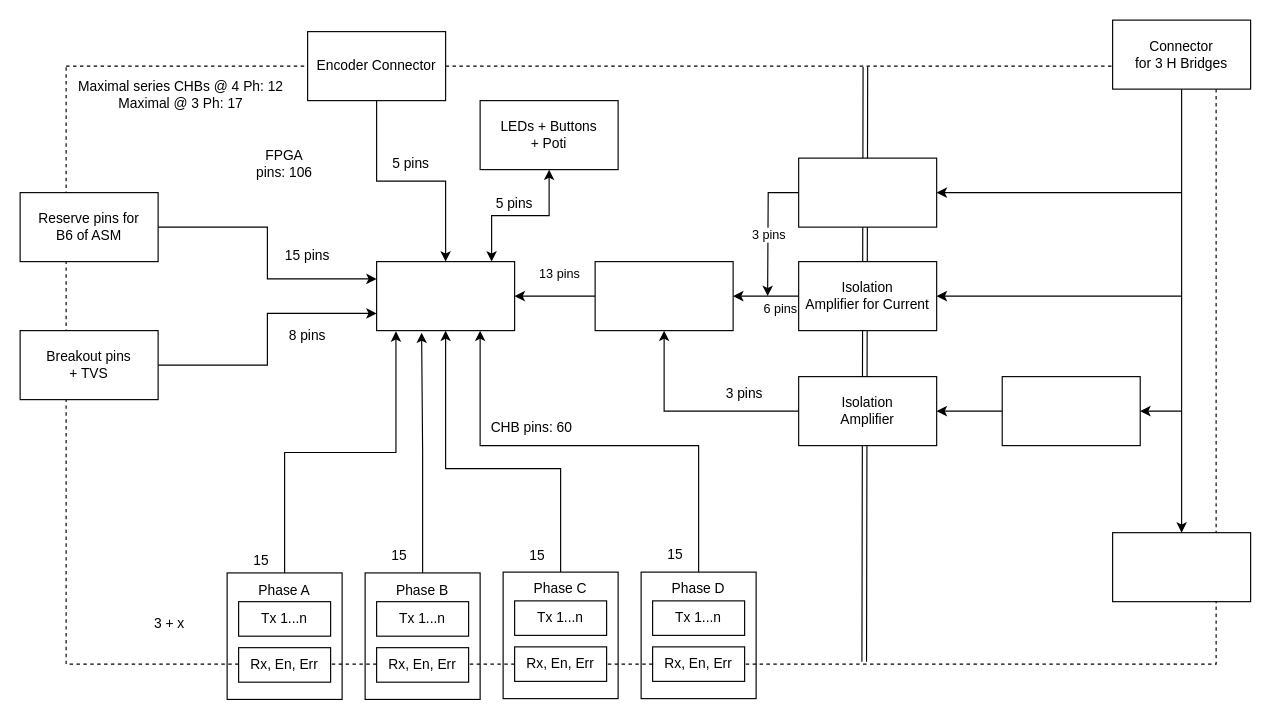
This 1271x728 diagram has some shape labels left out. Here are the shapes that lost their labels. From the top down, the box of each, then its label:
(798, 157, 937, 227): Hall effect current sensor
(375, 260, 515, 331): FPGA
(594, 260, 733, 331): ADC
(1001, 375, 1140, 446): HV-Voltage Probe
(1111, 532, 1251, 602): Connector for electrical machine
